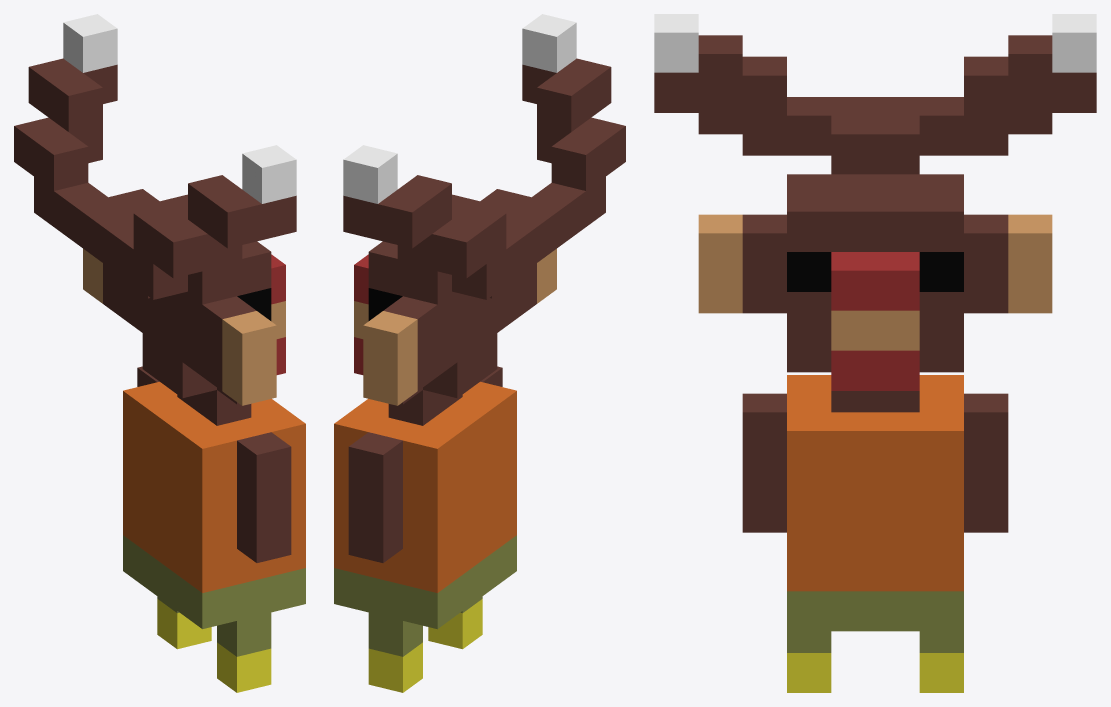
Rendered from postac.gltf.
3 renders of one model, left to right at view 1: azimuth 30°, elevation 25°; view 2: azimuth 150°, elevation 25°; view 3: azimuth 270°, elevation 25°, orthographic. The views are drawn at different scales.
Visible parts, largest first — view 1: Layer.1; view 2: Layer.1; view 3: Layer.1.
Part boxes in pixels (left/top/right/bottom): Layer.1: left=14, top=14, right=305, bottom=692; Layer.1: left=334, top=14, right=625, bottom=692; Layer.1: left=654, top=14, right=1096, bottom=692.
Bounding box in the file's own units: 5 × 16 × 10.
1 material, 1 textured.
